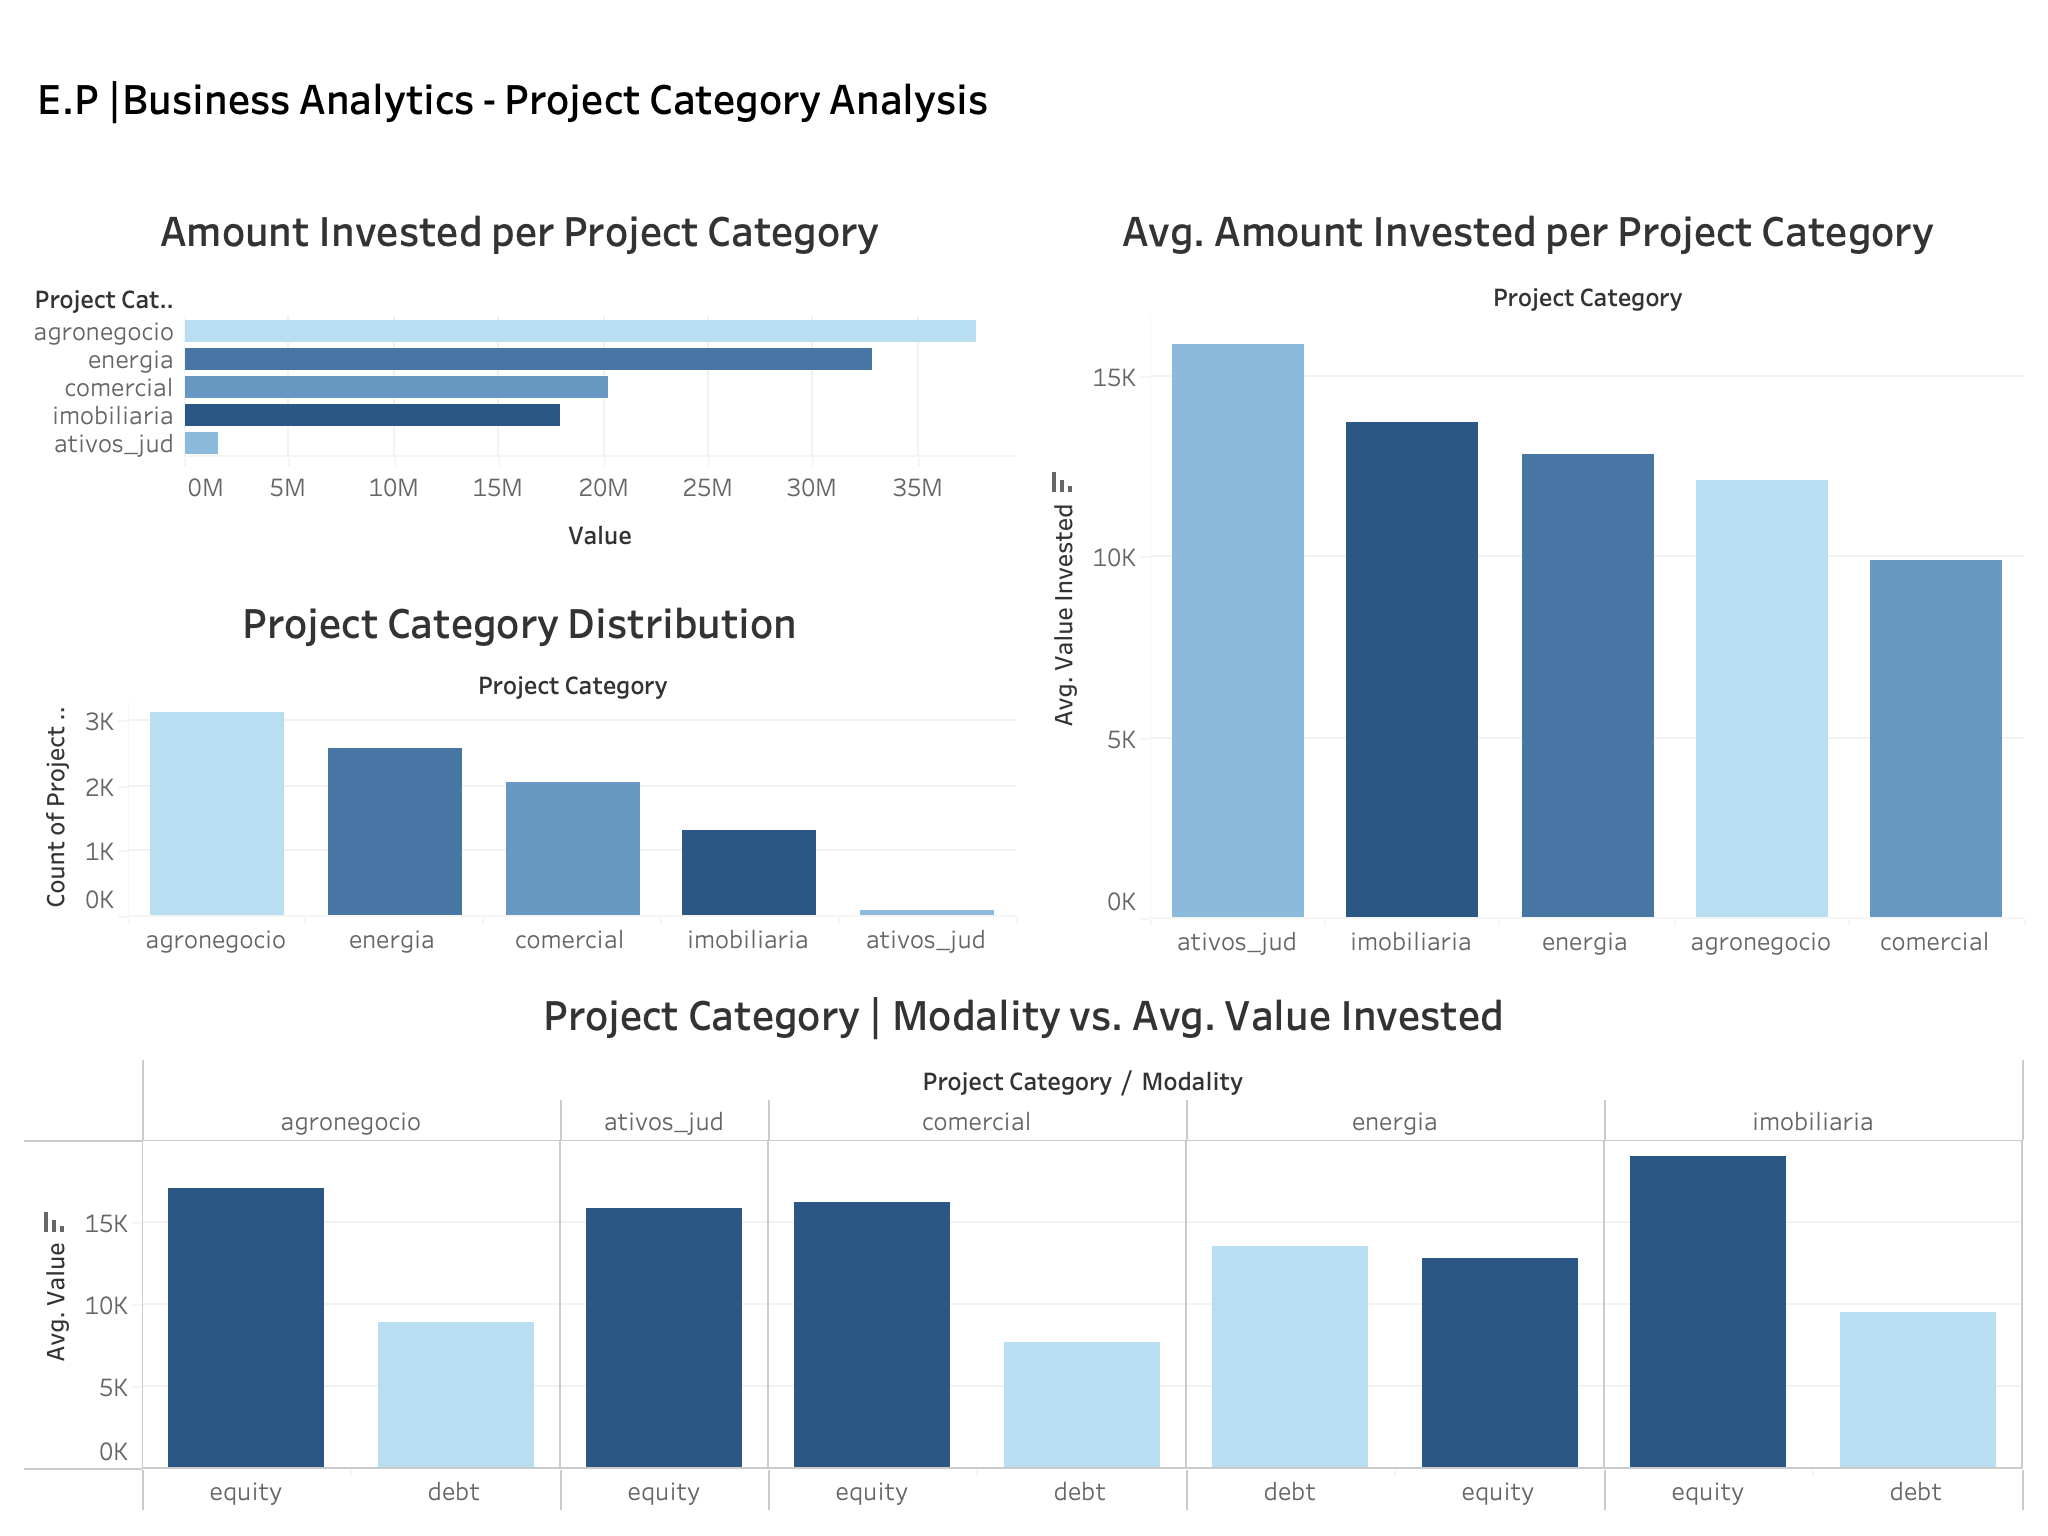

The dashboard page shown, as its layout file describes it:
{"tool":"tableau","page":{"name":"project_category_analysis","canvas":[1024,768],"ordinal":2},"visuals":[{"type":"text","box":[8,8,1008,83.4]},{"type":"worksheet","title":"total_value_vs_pjct_cat","mark":"Automatic","rows":["project_category"],"cols":["value"],"box":[8,91.4,504,195.8]},{"type":"worksheet","title":"pjct_cat_vs_value","mark":"Automatic","rows":["value"],"cols":["project_category"],"box":[512,91.4,504,391.6]},{"type":"worksheet","title":"pjct_cat_dist","mark":"Automatic","rows":["project_category"],"cols":["project_category"],"box":[8,287.2,504,195.8]},{"type":"worksheet","title":"pjct_mod_vs_value","mark":"Automatic","rows":["value"],"cols":["project_category","modality"],"box":[8,483,1008,277]}]}

Visuals, with their boxes in screenshot pixels (x1, y1, x2, y2), scaled from the page's 1024x768 canvas onto the 2048x1536 screenshot:
text: (16,16,2032,183)
"total_value_vs_pjct_cat" worksheet: (16,183,1024,574)
"pjct_cat_vs_value" worksheet: (1024,183,2032,966)
"pjct_cat_dist" worksheet: (16,574,1024,966)
"pjct_mod_vs_value" worksheet: (16,966,2032,1520)
